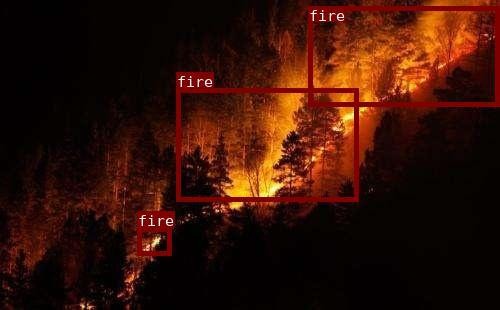fire: (176, 88, 358, 201), (308, 5, 498, 105), (137, 227, 171, 255)
